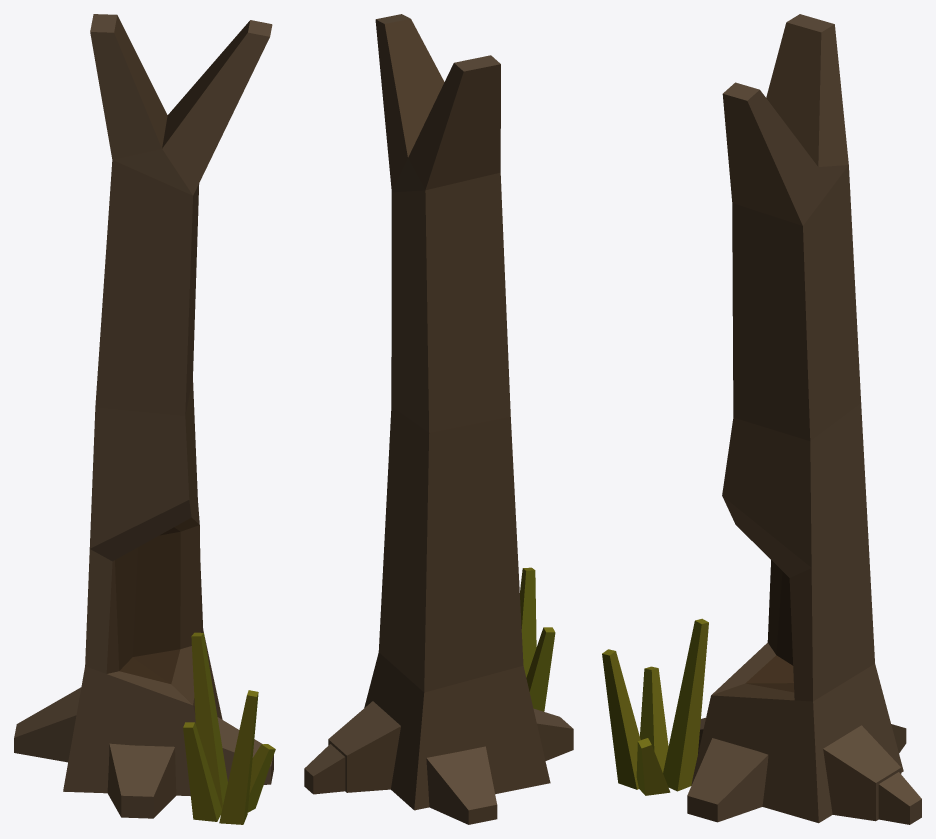
File: SF_Env_Swamp_Tree_01.fbx
3 renders of one model, left to right at view 1: azimuth 30°, elevation 25°; view 2: azimuth 150°, elevation 25°; view 3: azimuth 270°, elevation 25°, orthographic. The views are drawn at different scales.
Parts seen in each view (by area): view 1: SF_Env_Swamp_Tree_01; view 2: SF_Env_Swamp_Tree_01; view 3: SF_Env_Swamp_Tree_01.
Boxes of the visible parts, <box> form: SF_Env_Swamp_Tree_01: <box>14,14,275,824</box>; SF_Env_Swamp_Tree_01: <box>304,14,573,824</box>; SF_Env_Swamp_Tree_01: <box>602,14,921,824</box>.
Size of the model in its own units: 1.8 by 6.55 by 2.57.
